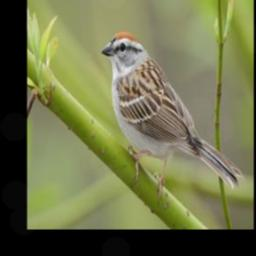Sparrow: (98, 30, 244, 203)
